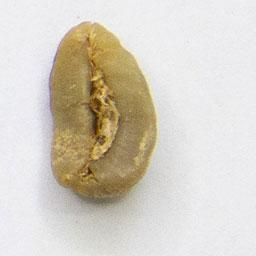longberry: (46, 17, 161, 201)
